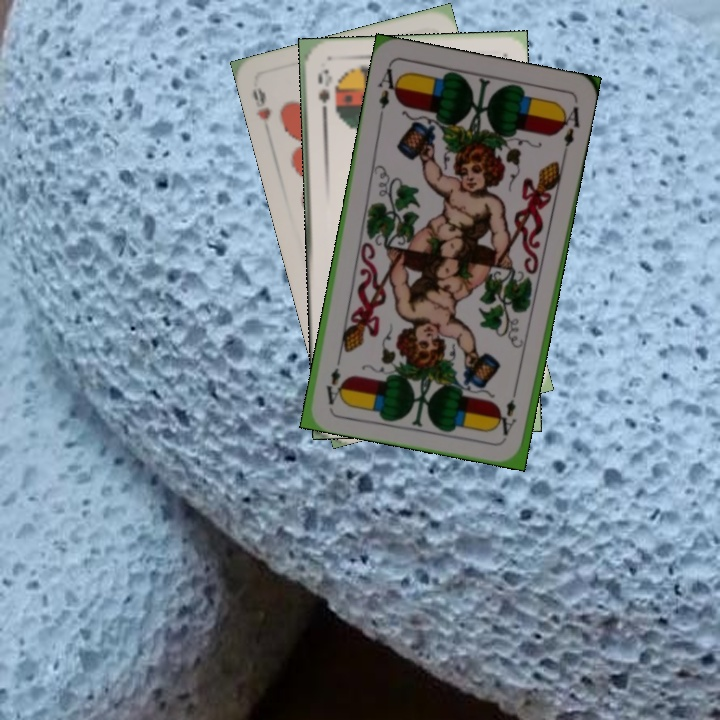EA: (373, 62, 403, 112), (498, 382, 521, 438)
H9: (248, 83, 274, 122)
SO: (314, 65, 333, 122)
